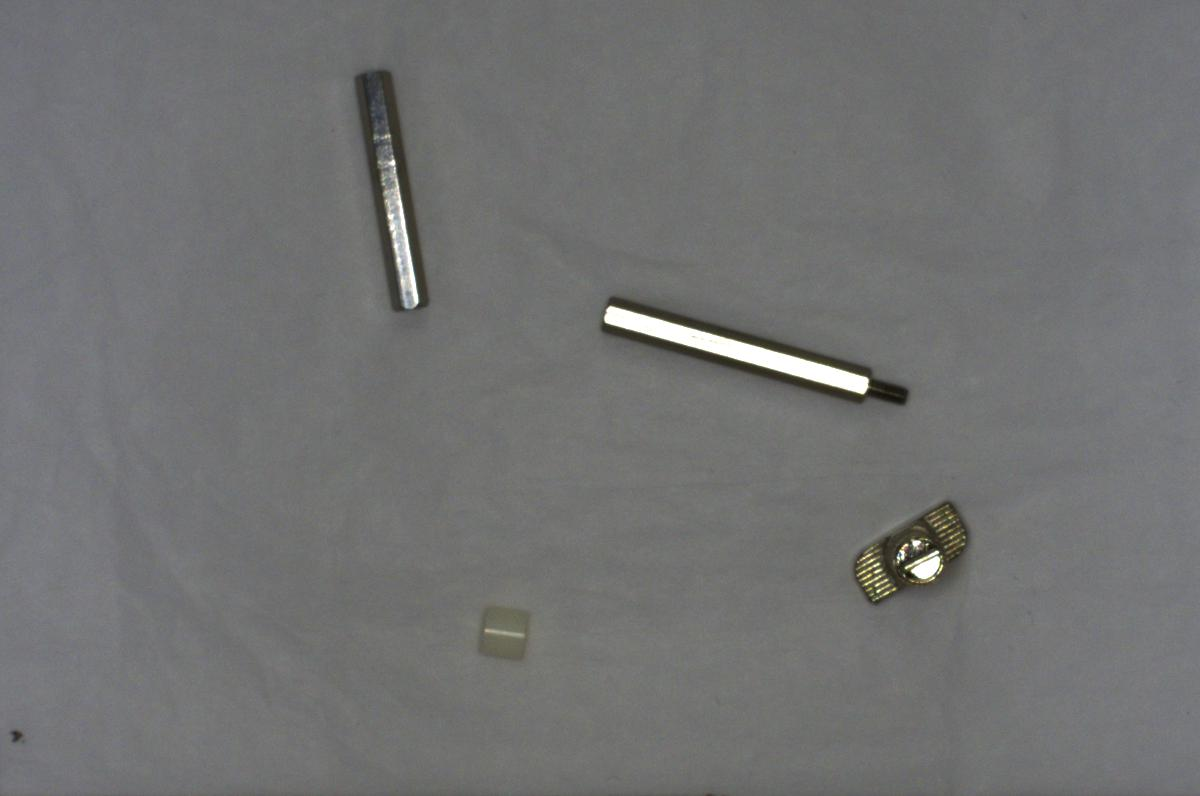Double hexagonal column: (347, 59, 435, 326)
Hexagonal steel column: (598, 293, 912, 412)
Plastic cushion pillar: (466, 599, 534, 675)
T-shaped screw: (848, 494, 971, 609)
